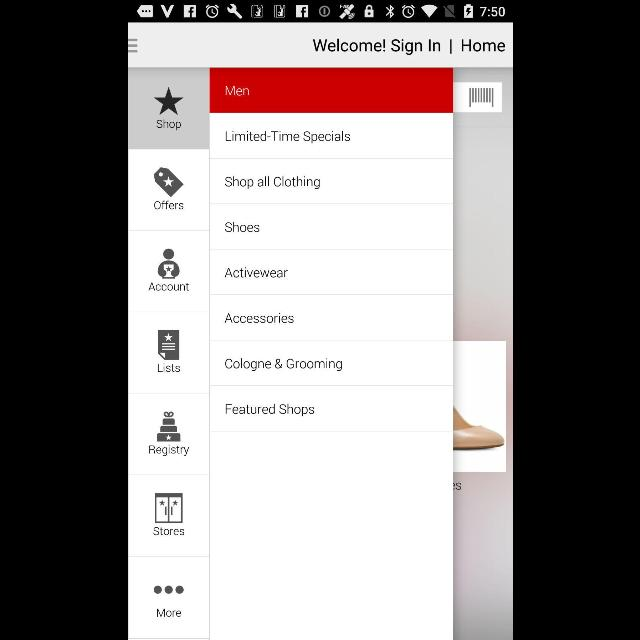icon: (153, 166, 183, 198), (154, 492, 182, 524), (153, 86, 183, 115), (156, 411, 180, 442), (157, 248, 179, 280), (157, 330, 179, 360), (152, 586, 184, 594), (128, 38, 136, 52)
panel: (128, 68, 452, 640)
text: (312, 38, 504, 56), (224, 130, 350, 144), (225, 358, 342, 370), (224, 176, 320, 190), (224, 404, 314, 416), (224, 312, 292, 324), (223, 268, 287, 278), (148, 445, 188, 457), (147, 282, 189, 292), (224, 222, 260, 232), (152, 526, 184, 536), (153, 200, 183, 210), (156, 119, 180, 131), (225, 85, 249, 96), (156, 608, 180, 618), (156, 363, 180, 372)
toolbar: (128, 23, 512, 67)
uppertaskbar: (128, 1, 512, 23)
